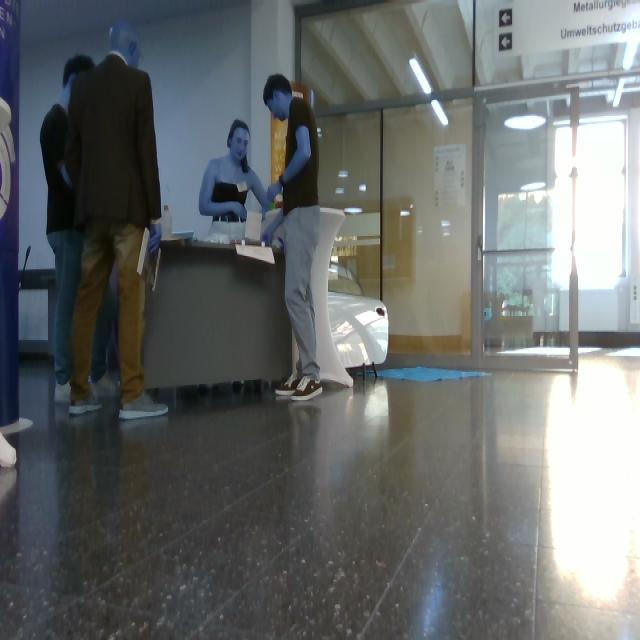desk: (144, 241, 292, 389)
light bulb: (410, 58, 447, 126), (410, 58, 432, 94)
person: (62, 22, 168, 420), (264, 74, 322, 400), (41, 56, 94, 401), (200, 120, 279, 241), (87, 301, 115, 380)
table: (312, 209, 352, 386)
tiled floor: (1, 358, 640, 640)
